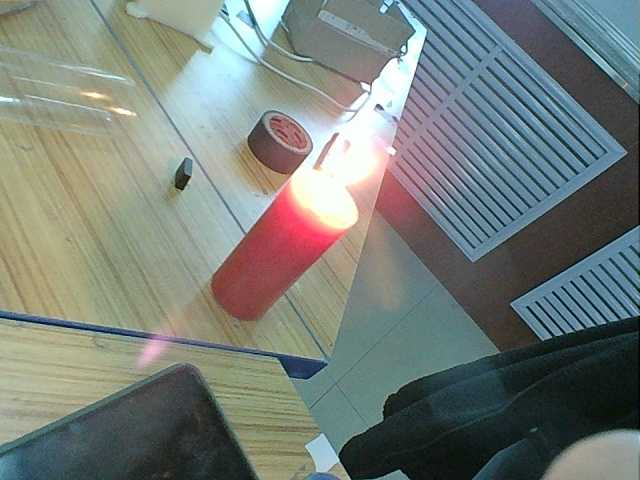candle: (213, 193, 332, 311)
fire: (299, 142, 381, 212)
